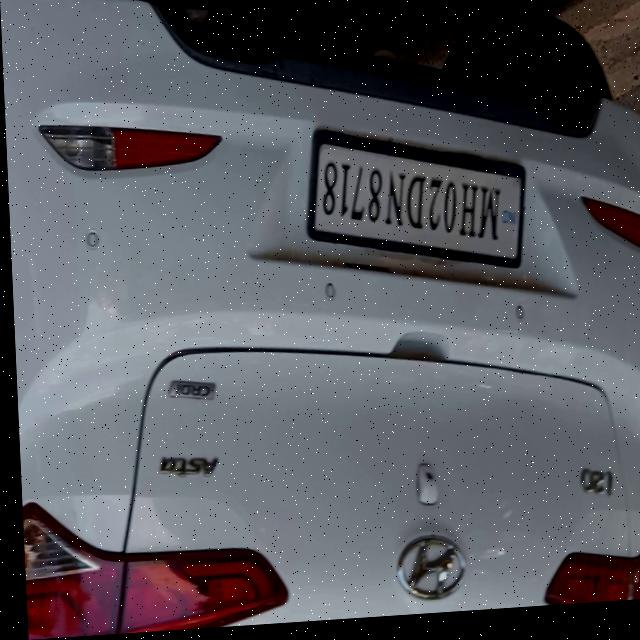plate: (298, 118, 530, 291)
